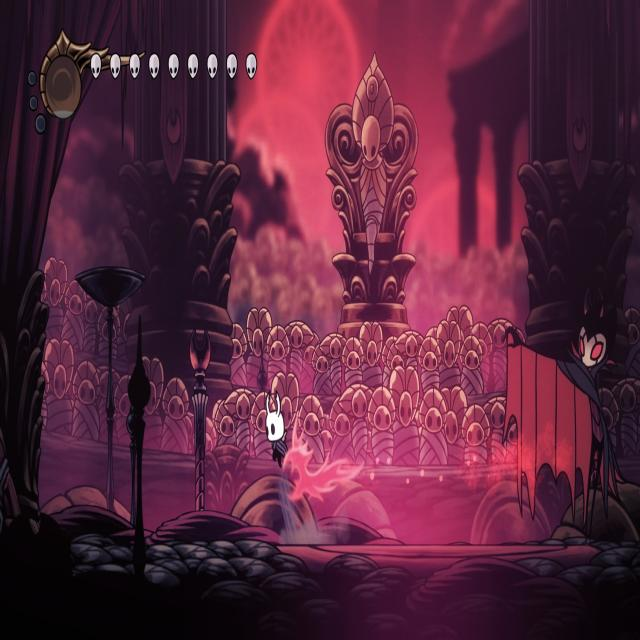Fire Bat: (282, 410, 366, 506)
Open Cloak: (501, 291, 628, 546)
Player: (264, 382, 294, 468)
